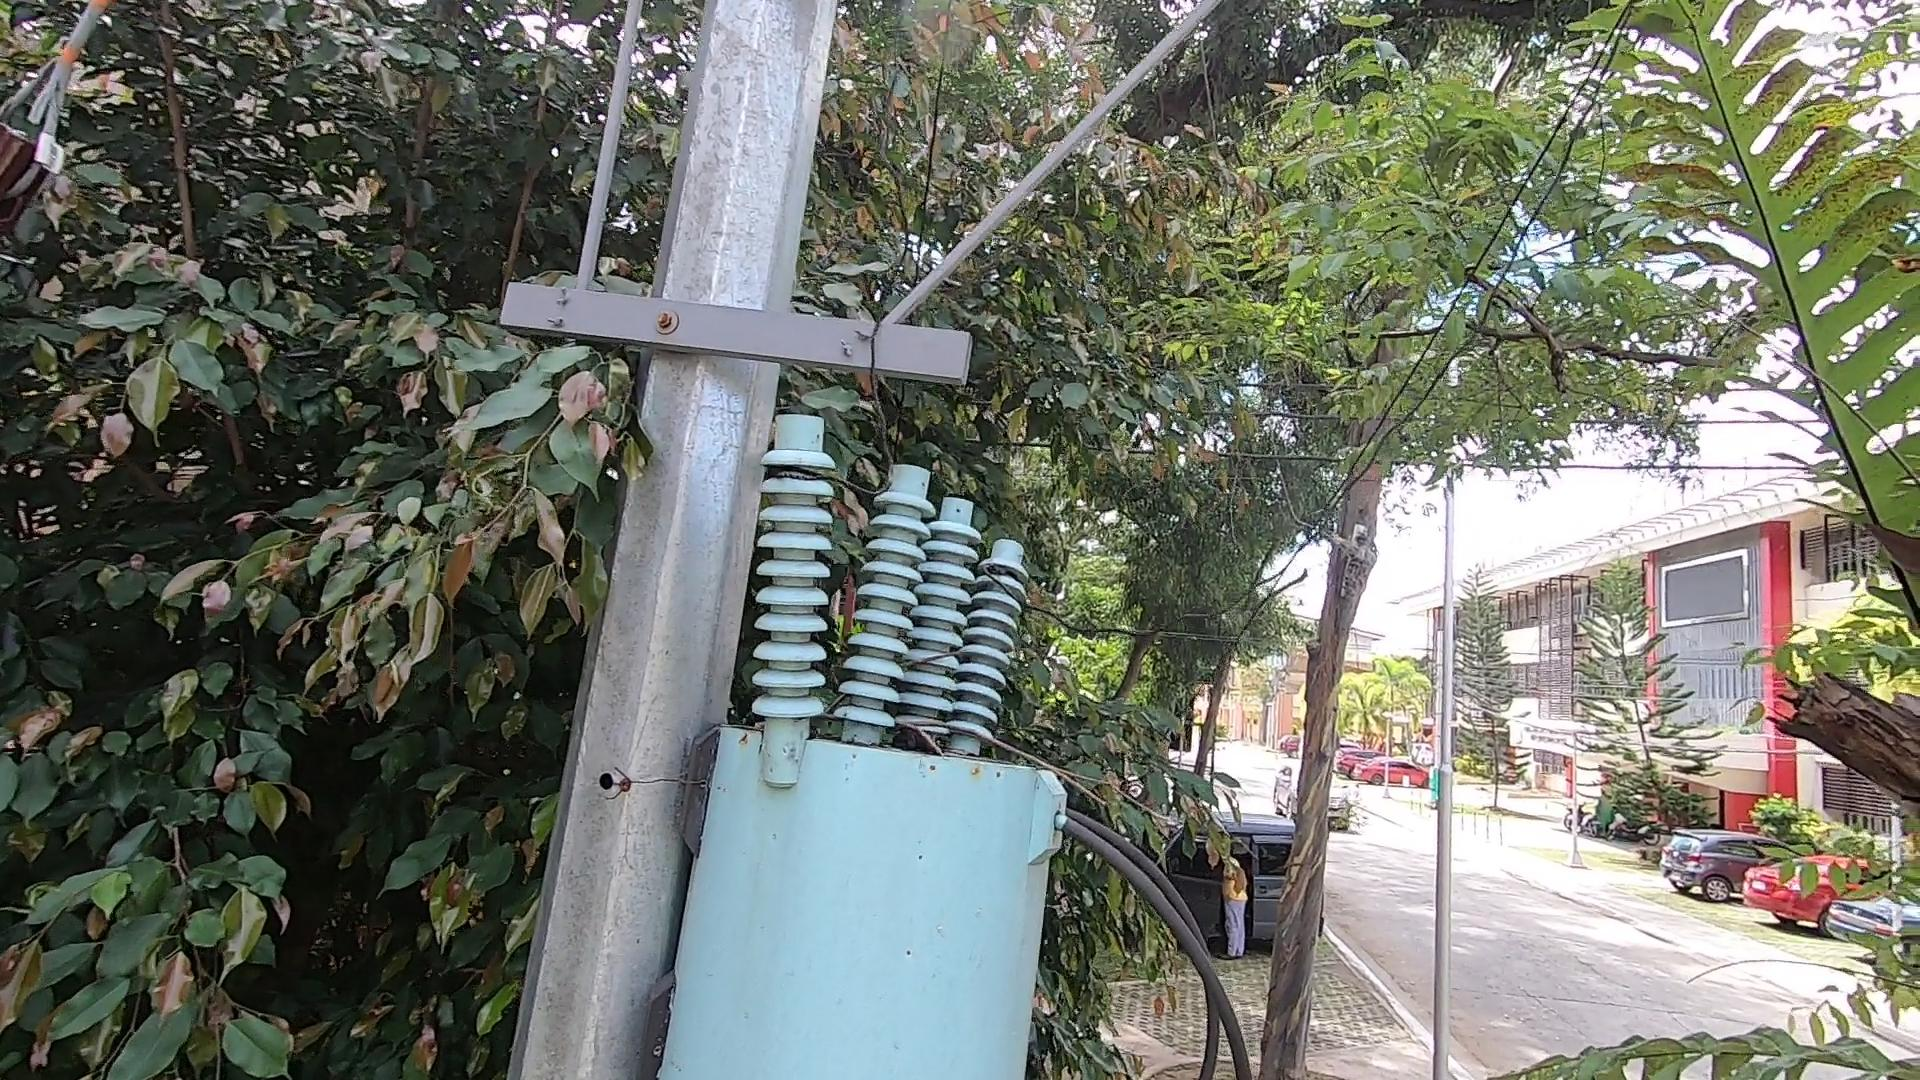leaf: (872, 709, 944, 760)
tree branch: (840, 691, 1182, 841)
